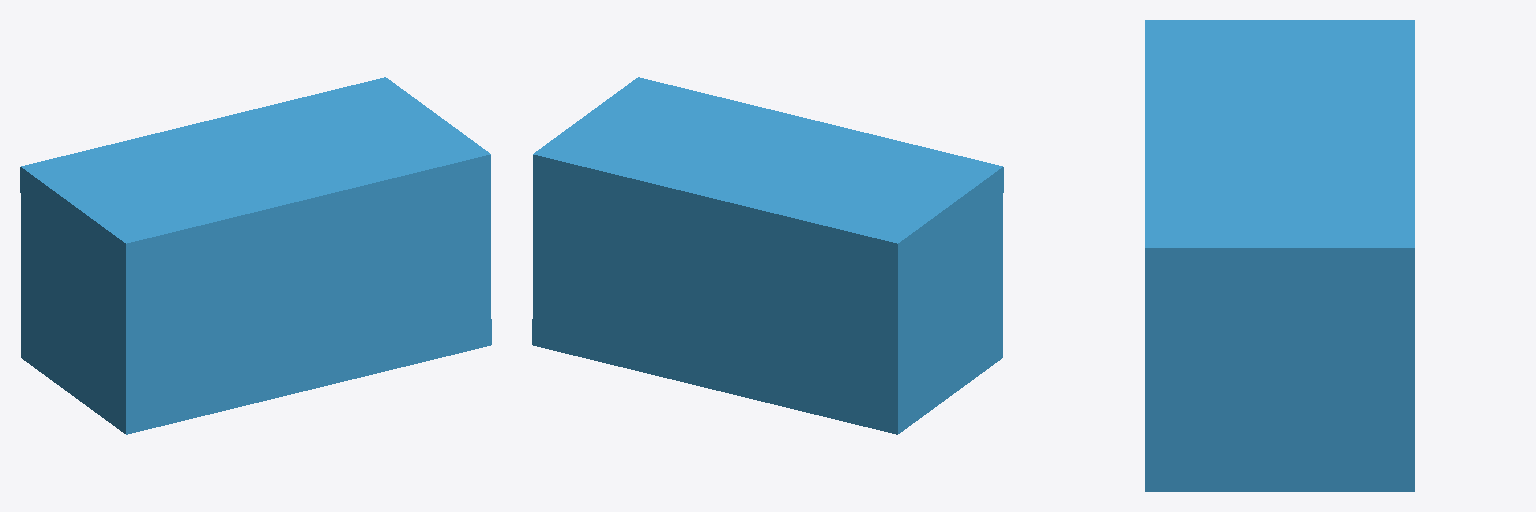
robot.urdf — camera:
<?xml version="1.0"?>
<robot name="camera">

<link name="base_link">

  <inertial>
   <origin xyz="0 0 0" rpy="0 0 0"/>
   <mass value="0.0448" />
   <inertia
      ixx="0.000012" ixy="0.0"  ixz="0.0"
      iyy="0.000012" iyz="0.0"  izz="0.000012" />
  </inertial>

</link>

<gazebo reference="base_link">
    <turnGravityOff>true</turnGravityOff>
</gazebo>

<joint name="camera_joint" type="fixed">
    <axis xyz="0 1 0" />
    <origin xyz="0 0 0" rpy="0 1.57 0"/>
    <parent link="base_link"/>
    <child link="camera_link"/>
</joint>

<link name="camera_link">

  <collision>
    <origin xyz="0 0 0" rpy="0 0 0"/>
    <geometry>
      <box size="0.02 0.02 0.04" />
    </geometry>
  </collision>

  <visual>
    <origin xyz="0 0 0" rpy="0 0 0"/>
    <geometry>
      <box size="0.02 0.02 0.04" />
    </geometry>
  </visual>

  <inertial>
   <origin xyz="0 0 0" rpy="0 0 0"/>
   <mass value="0.001" />
   <inertia
      ixx="0.000012" ixy="0.0"  ixz="0.0"
      iyy="0.000012" iyz="0.0"  izz="0.000012" />
  </inertial>

</link>

<gazebo reference="camera_link">
    <turnGravityOff>true</turnGravityOff>
    <sensor type="camera" name="camera1">
        <update_rate>30.0</update_rate>
        <camera name="head">
        <horizontal_fov>0.88334625</horizontal_fov>
        <image>
            <width>640</width>
            <height>480</height>
            <format>R8G8B8</format>
        </image>
        <clip>
            <near>0.02</near>
            <far>300</far>
        </clip>
        <noise>
            <type>gaussian</type>
            <!-- Noise is sampled independently per pixel on each frame.
                That pixel's noise value is added to each of its color
                channels, which at that point lie in the range [0,1]. -->
            <mean>0.0</mean>
            <stddev>0.007</stddev>
        </noise>
        </camera>
        <plugin name="camera_controller" filename="libgazebo_ros_camera.so">
        <alwaysOn>true</alwaysOn>
        <updateRate>0.0</updateRate>
        <cameraName>cv_camera_node</cameraName>
        <imageTopicName>image_raw</imageTopicName>
        <cameraInfoTopicName>camera_info</cameraInfoTopicName>
        <frameName>camera_link</frameName>
        <hackBaseline>0.07</hackBaseline>
        <distortionK1>0.0</distortionK1>
        <distortionK2>0.0</distortionK2>
        <distortionK3>0.0</distortionK3>
        <distortionT1>0.0</distortionT1>
        <distortionT2>0.0</distortionT2>
        </plugin>
    </sensor>
</gazebo>

</robot>

--- What the picture shows (computed from the rendered views, not written in the file) ---
The picture shows the robot from 3 angles, left to right: view 1: azimuth 30°, elevation 25°; view 2: azimuth 150°, elevation 25°; view 3: azimuth 270°, elevation 25°; orthographic projection.
Robot: camera — 2 links, 1 joints (1 fixed); root link base_link; default pose: all joints at 0.
Links seen in each view (by area): view 1: camera_link; view 2: camera_link; view 3: camera_link.
Boxes of the visible links, bbox=[...] form: camera_link: bbox=[20, 77, 491, 434]; camera_link: bbox=[532, 77, 1003, 434]; camera_link: bbox=[1145, 20, 1414, 491].
Bounding box of the posed robot: 0.04 × 0.02 × 0.02 m (x, y, z).
Geometry: primitives only (box / cylinder / sphere), no mesh files.